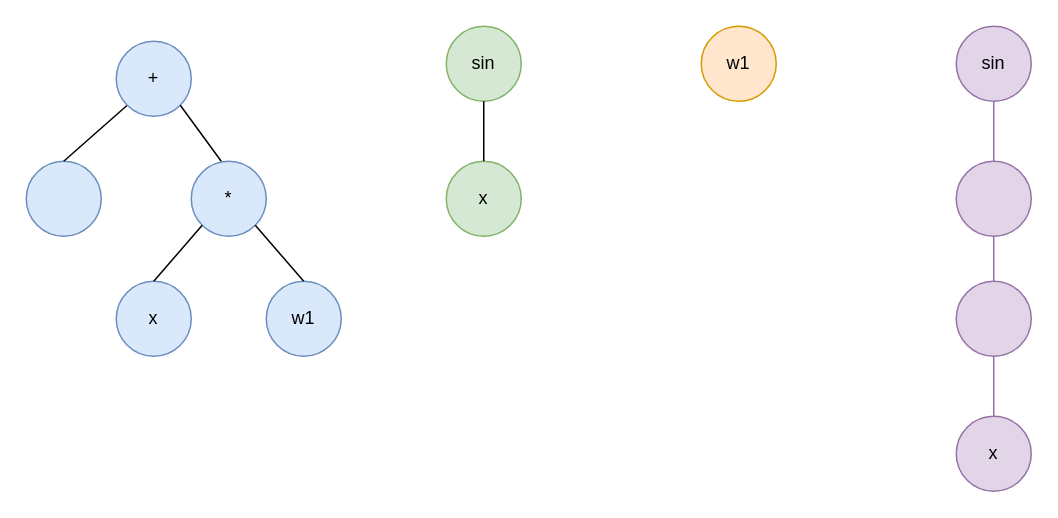
Image size: 1058x518. Some labels were removed from this diagram. The box of each missing label's shape, as (x1, y1, x2, y2) in pixels:
cos: (955, 160, 1031, 236)
exp: (955, 280, 1031, 356)
w0: (25, 160, 101, 236)
